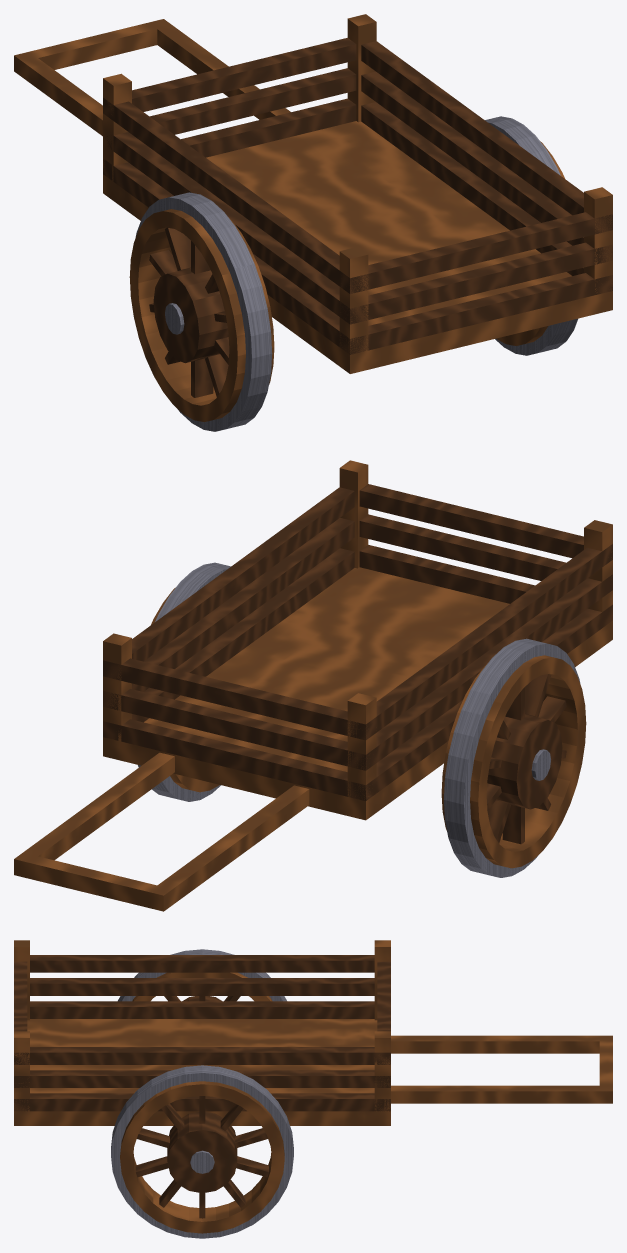
Rendered from holzwagen_t2.fbx.
The picture shows the model from 3 angles, top to bottom: view 1: azimuth 30°, elevation 25°; view 2: azimuth 150°, elevation 25°; view 3: azimuth 270°, elevation 25°; orthographic projection. The views are drawn at different scales.
Visible parts, largest first — view 1: Holzwagen_T2; view 2: Holzwagen_T2; view 3: Holzwagen_T2.
Part boxes in pixels (x1,y1,x2,y2): Holzwagen_T2: [14, 14, 612, 431]; Holzwagen_T2: [14, 460, 612, 911]; Holzwagen_T2: [14, 940, 612, 1238].
Size of the model in its own units: 121 by 77 by 222.
